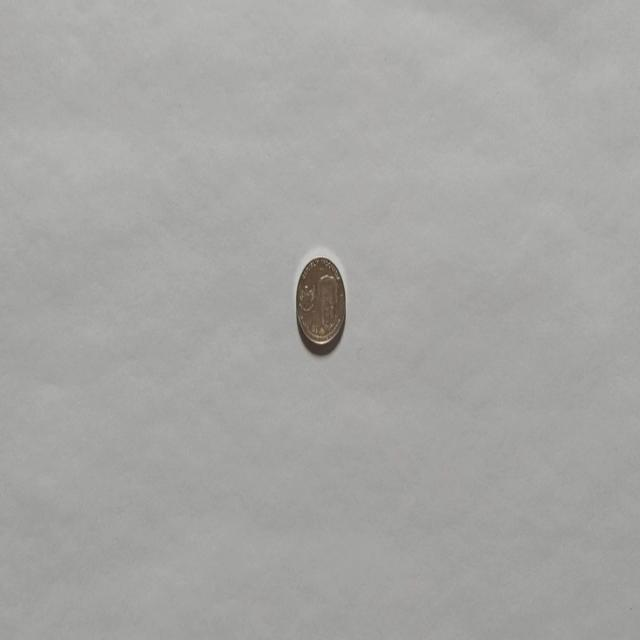seratus rupiah: (295, 254, 346, 351)
